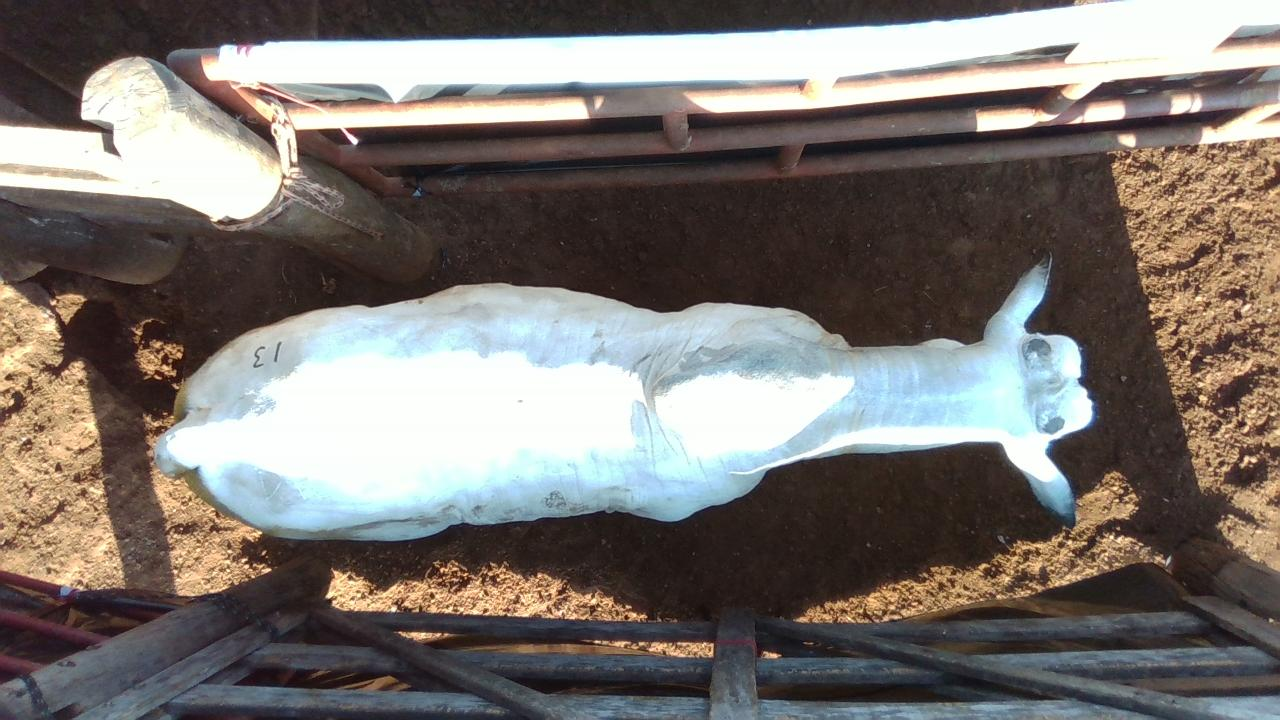cattle: (153, 248, 1096, 543)
